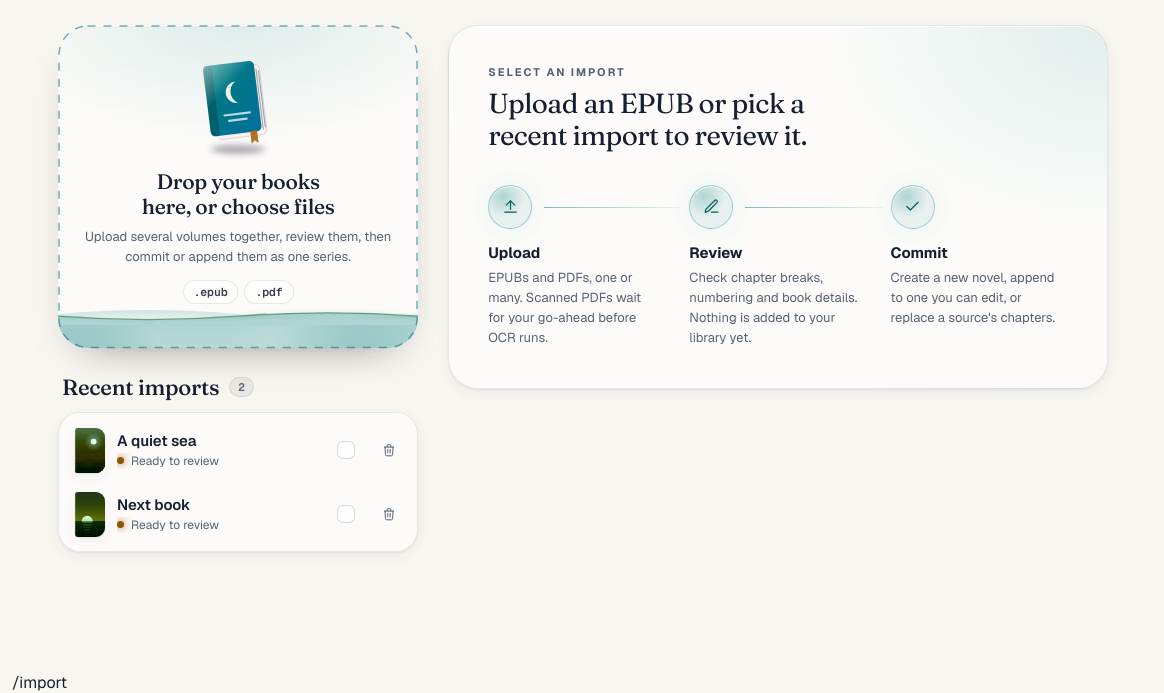
import selection in the URL › keeps ?job= in step with the chosen import
The image size is (1164, 693).
(page scrolled)
What coordinates should you click on to do the following:
click the button "Next book Ready to review"
I would click on:
 (218, 514)
Its box is [117,491,319,537].
(page scrolled)
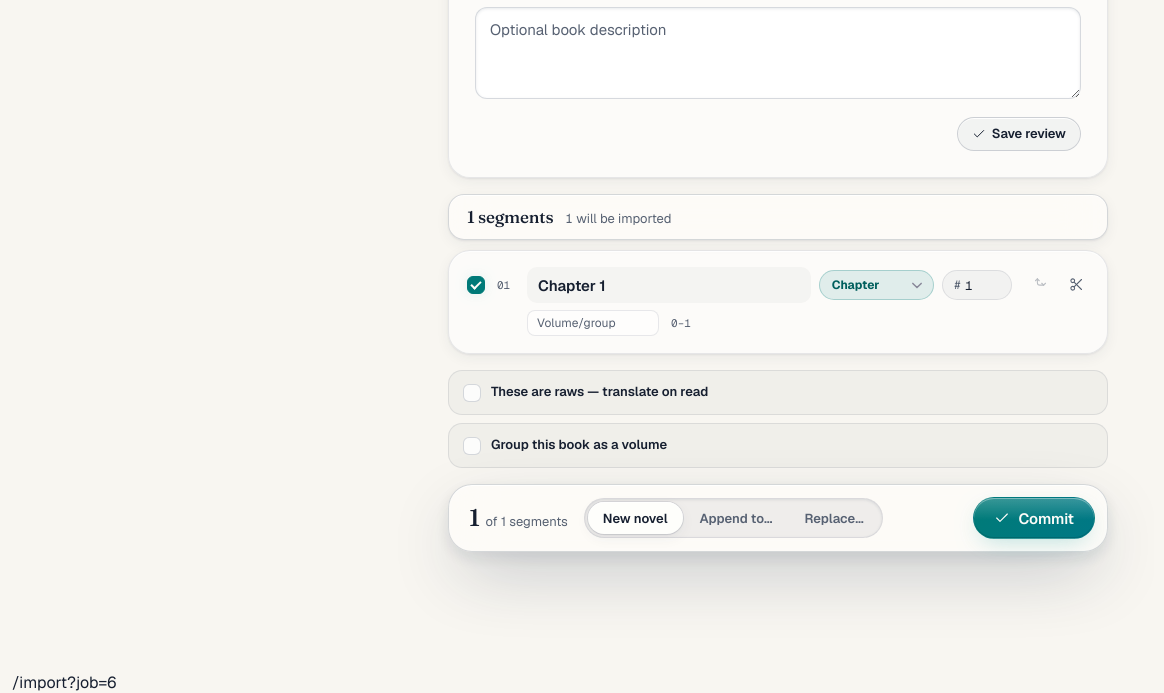
Check: the text with test id "where" reads "/import?job=6", box [12,672,116,692]
